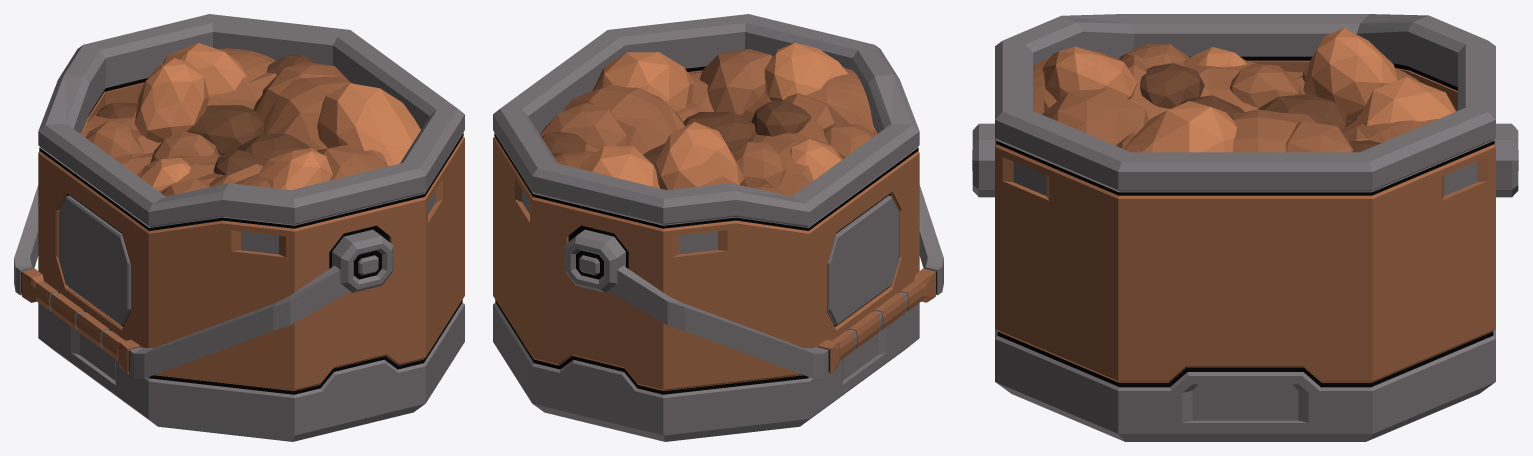
The model's file is SM_Crushed_Bauxite.fbx.
3 renders of one model, left to right at view 1: azimuth 30°, elevation 25°; view 2: azimuth 150°, elevation 25°; view 3: azimuth 270°, elevation 25°, orthographic. The views are drawn at different scales.
Visible parts, largest first — view 1: SM_Crushed_Bauxite; view 2: SM_Crushed_Bauxite; view 3: SM_Crushed_Bauxite.
Part boxes in pixels (x1,y1,x2,y2): SM_Crushed_Bauxite: [14, 14, 464, 441]; SM_Crushed_Bauxite: [493, 14, 943, 441]; SM_Crushed_Bauxite: [972, 14, 1518, 441].
Size of the model in its own units: 22.36 by 17 by 27.4.
